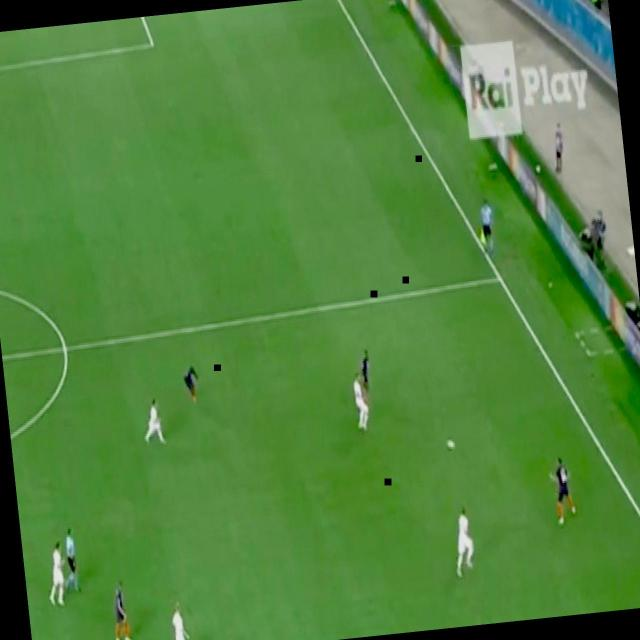ball: (446, 435, 456, 452), (535, 162, 541, 174)
player-white: (546, 453, 578, 527), (448, 503, 479, 579), (42, 538, 72, 612), (59, 522, 83, 597), (108, 577, 135, 640), (139, 393, 169, 449), (160, 596, 194, 640), (350, 370, 372, 434), (478, 195, 498, 259), (357, 344, 375, 404), (180, 363, 202, 409)
